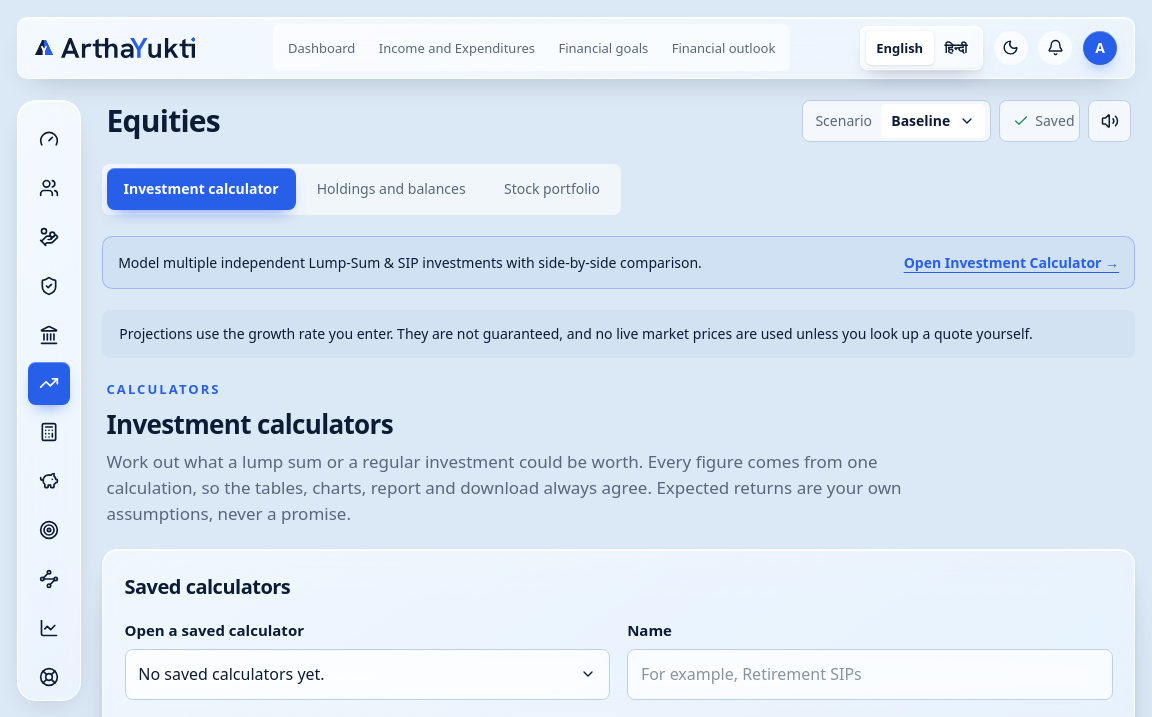
Test case: the portfolio page › shows an empty state with the add form when nothing is held
Click the button "Stock portfolio": (552,189) top-left (487, 168), bottom-right (617, 210)
(page scrolled)
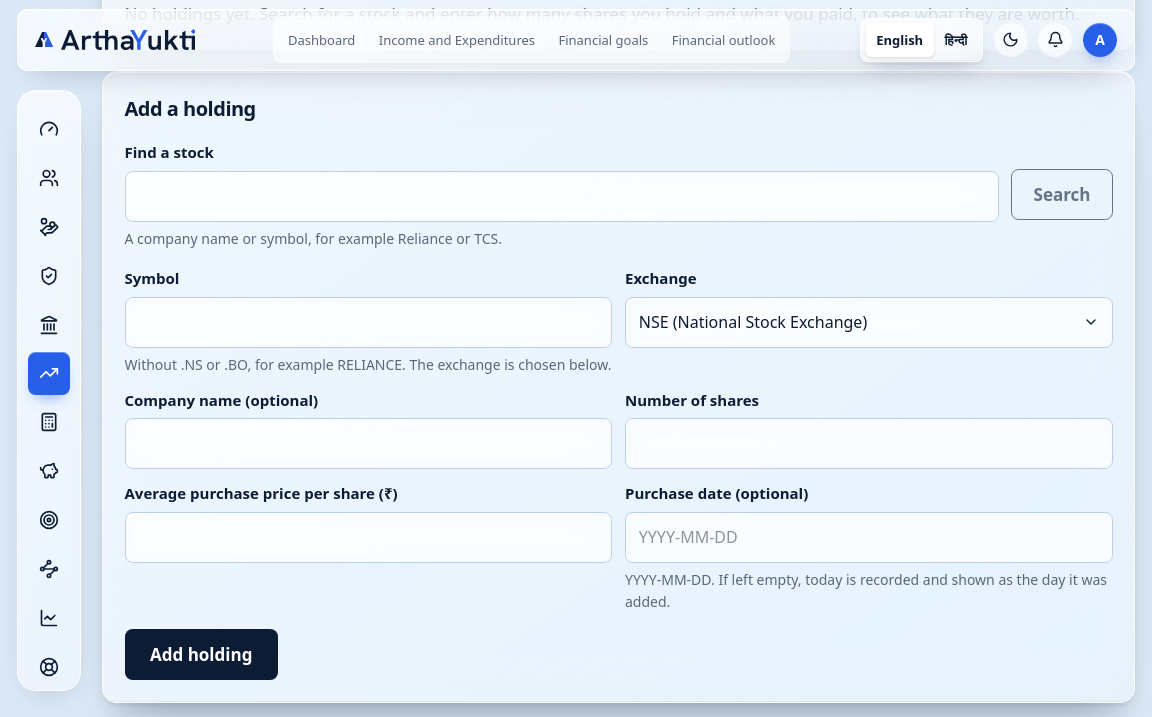
Check: the text "No holdings yet" is shown, box top-left (124, 2), bottom-right (1080, 25)
Check: the form named "Add a holding" is shown, box top-left (124, 267), bottom-right (1113, 680)
